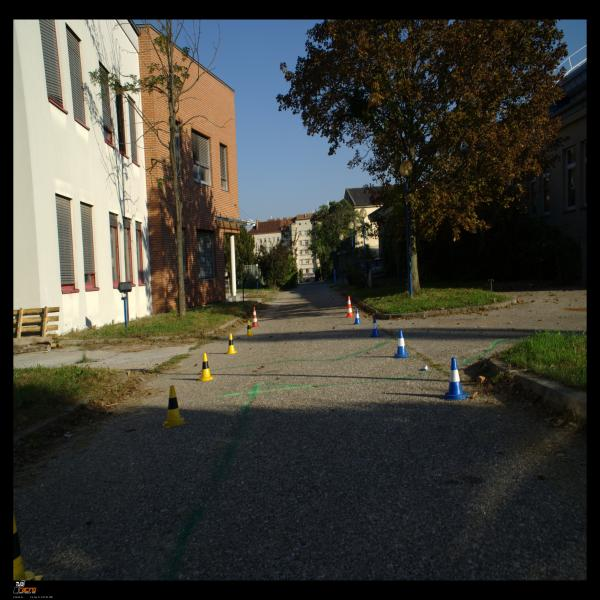blue_cone: (444, 357, 468, 400), (394, 330, 410, 358), (369, 317, 381, 337), (354, 308, 361, 324)
large_orange_cone: (250, 307, 260, 327), (346, 296, 354, 318)
yellow_cone: (13, 511, 44, 580), (163, 385, 186, 428), (197, 353, 215, 381), (225, 334, 237, 354), (245, 320, 254, 336)
